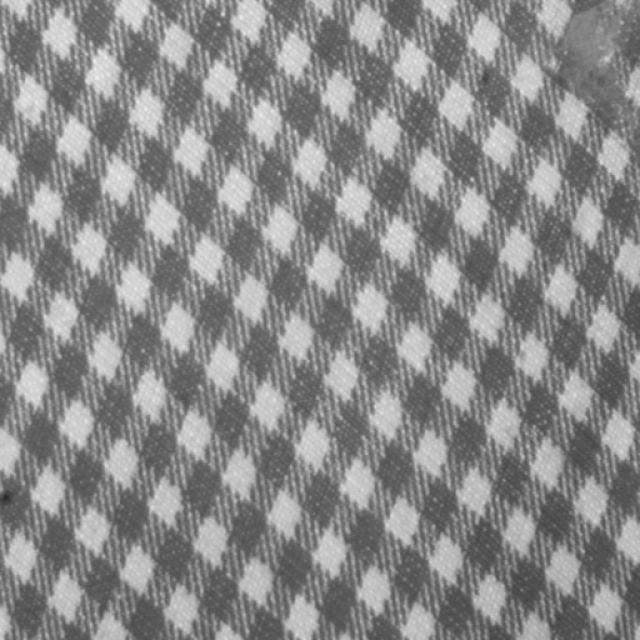Stain-Defect: (560, 0, 639, 81)
